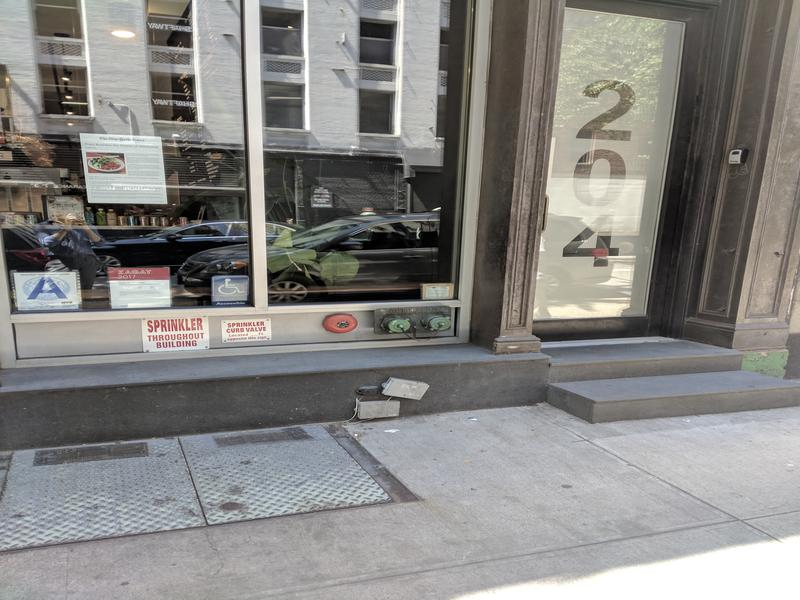door: (547, 5, 697, 339)
